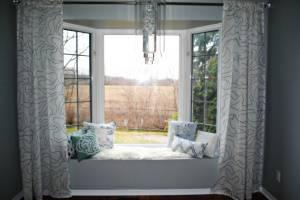window: (57, 26, 222, 141)
